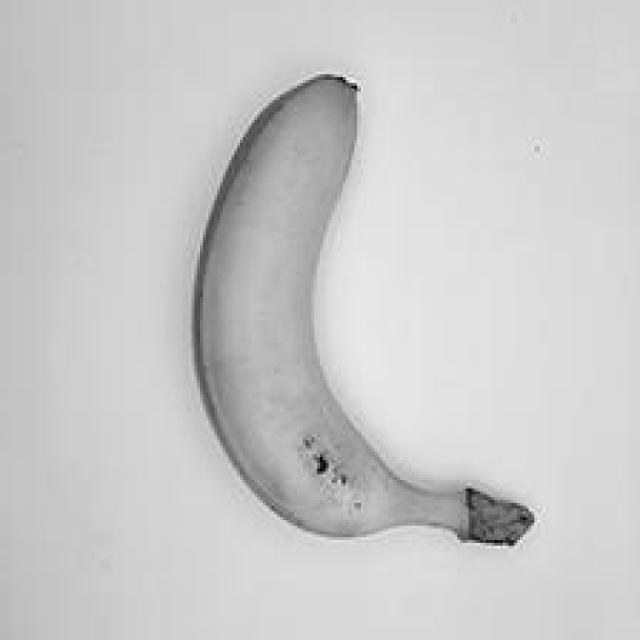Unripe: (166, 46, 550, 566)
